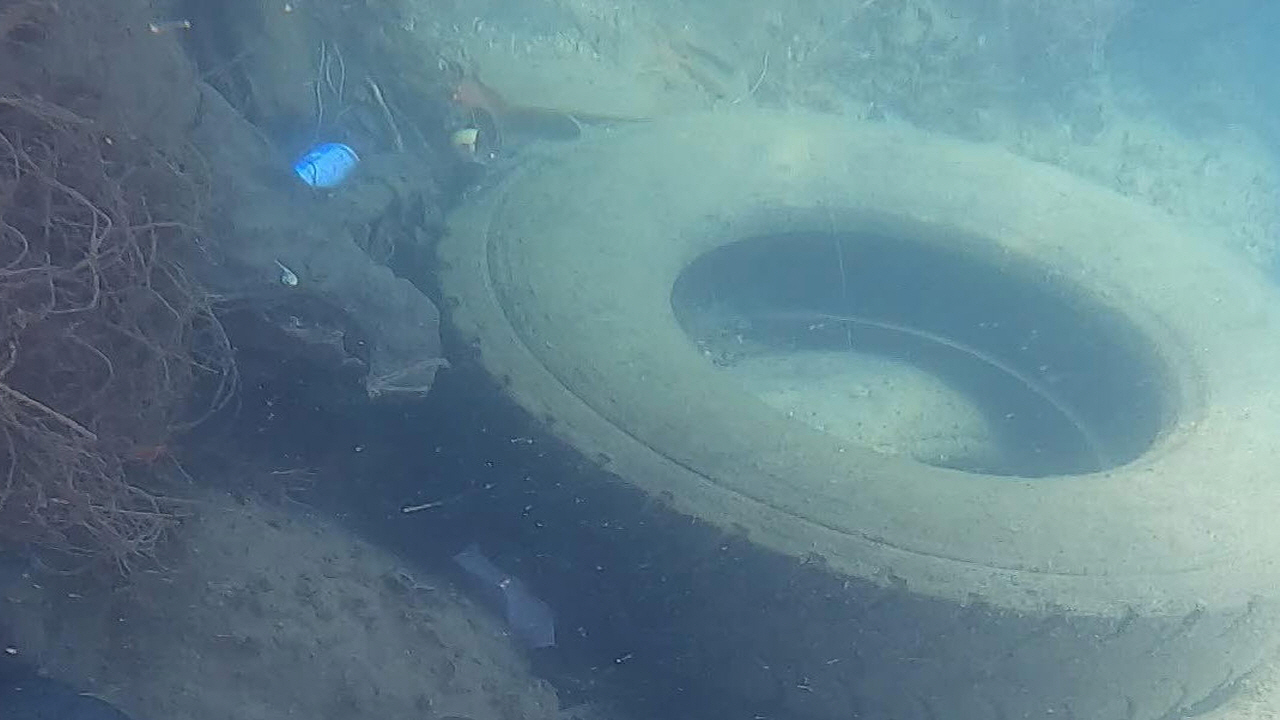tire: (434, 109, 1280, 720)
